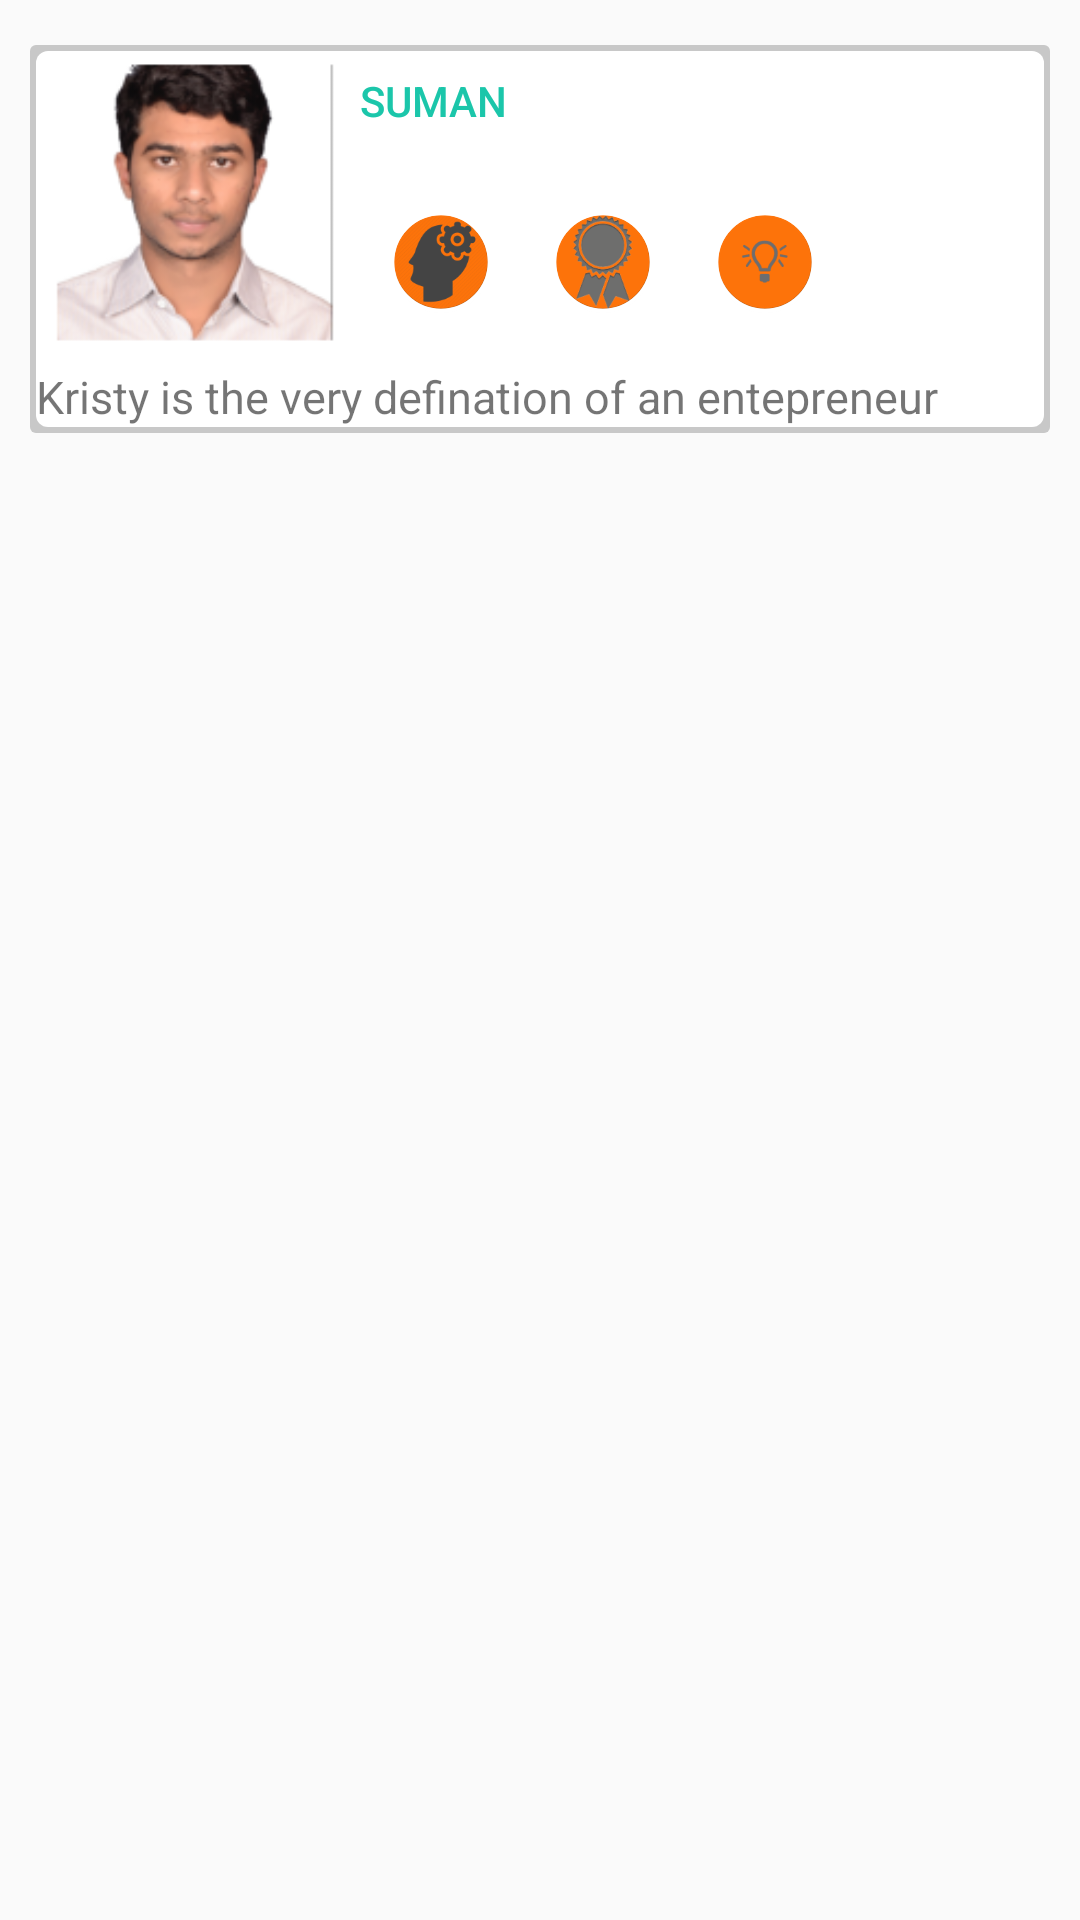

Screen size 1080w x 1920h. Icon name, then its box in pixels as {"left": x1, "top": y1, "right": x2, "bottom": y2}:
innov: {"left": 718, "top": 215, "right": 812, "bottom": 309}
